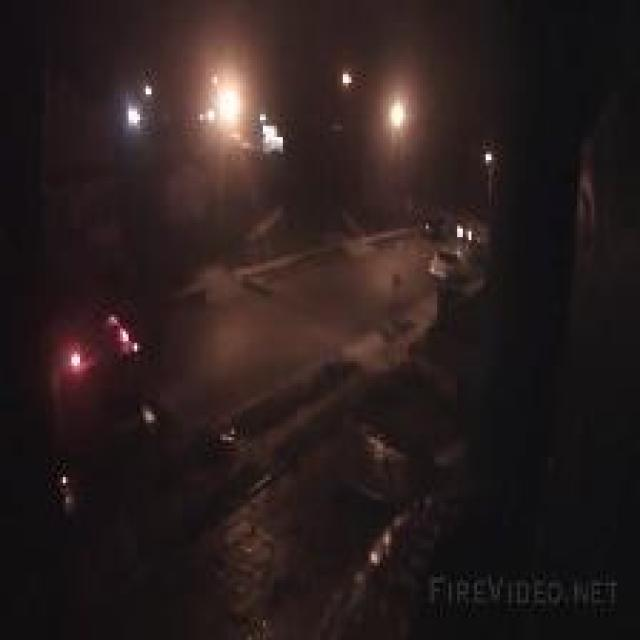other: (325, 60, 423, 152), (170, 65, 252, 133), (55, 309, 90, 383), (115, 77, 156, 136), (480, 146, 503, 174)
